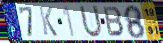1: (62, 5, 76, 39)
7: (18, 6, 35, 38)
8: (123, 4, 147, 40)
B: (102, 6, 126, 38)
K: (38, 6, 59, 38)
U: (78, 4, 103, 39)
